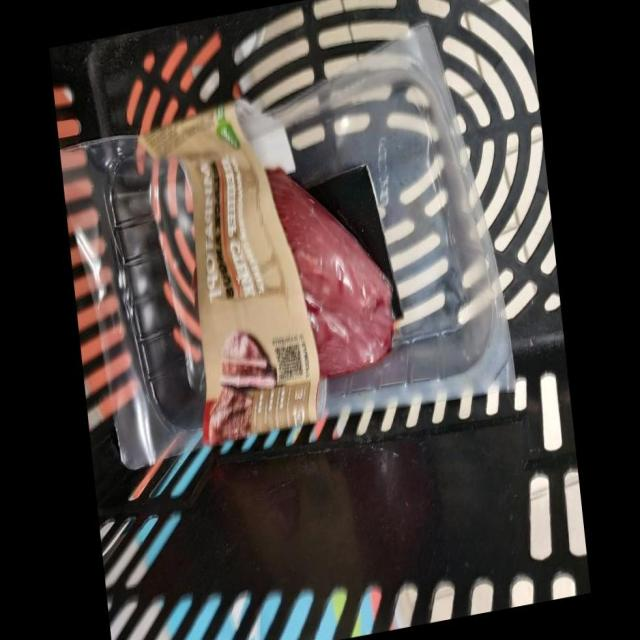Meat: (60, 23, 514, 467)
